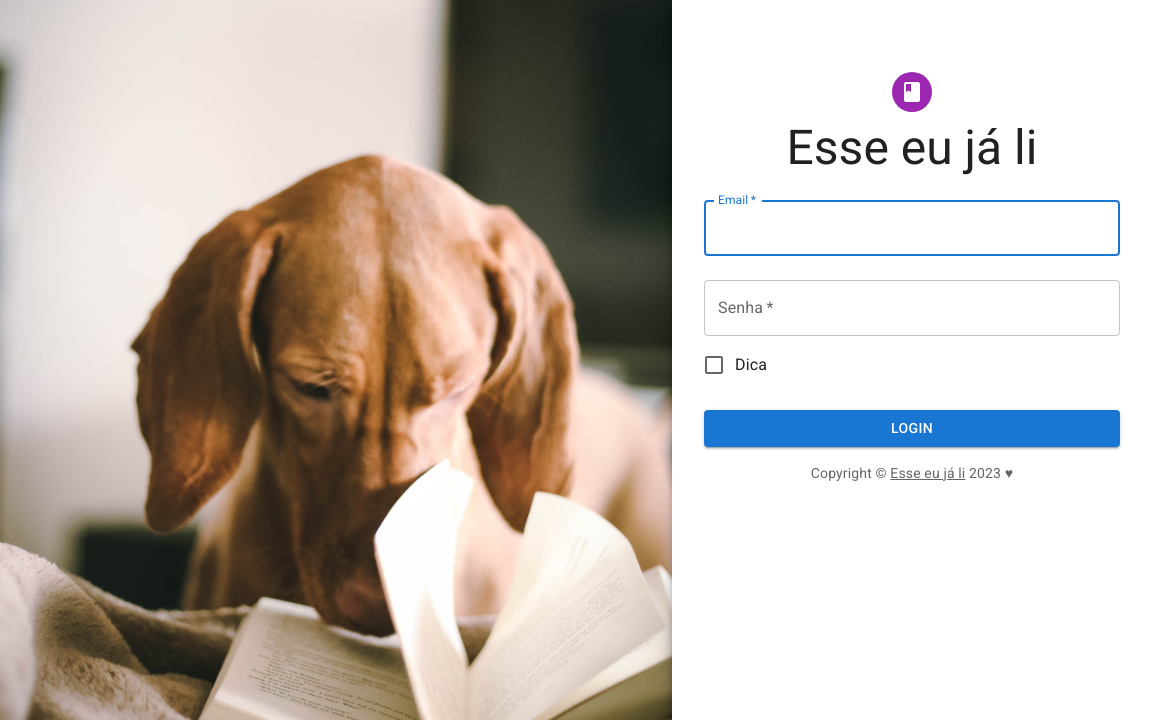
Scenario: SignIn › should show a message error when try sign with invalid credentials
Type "wrong@test.com" into the field labelled "Email *" at coordinates (912, 228), box x1=704 y1=200 x2=1120 y2=256
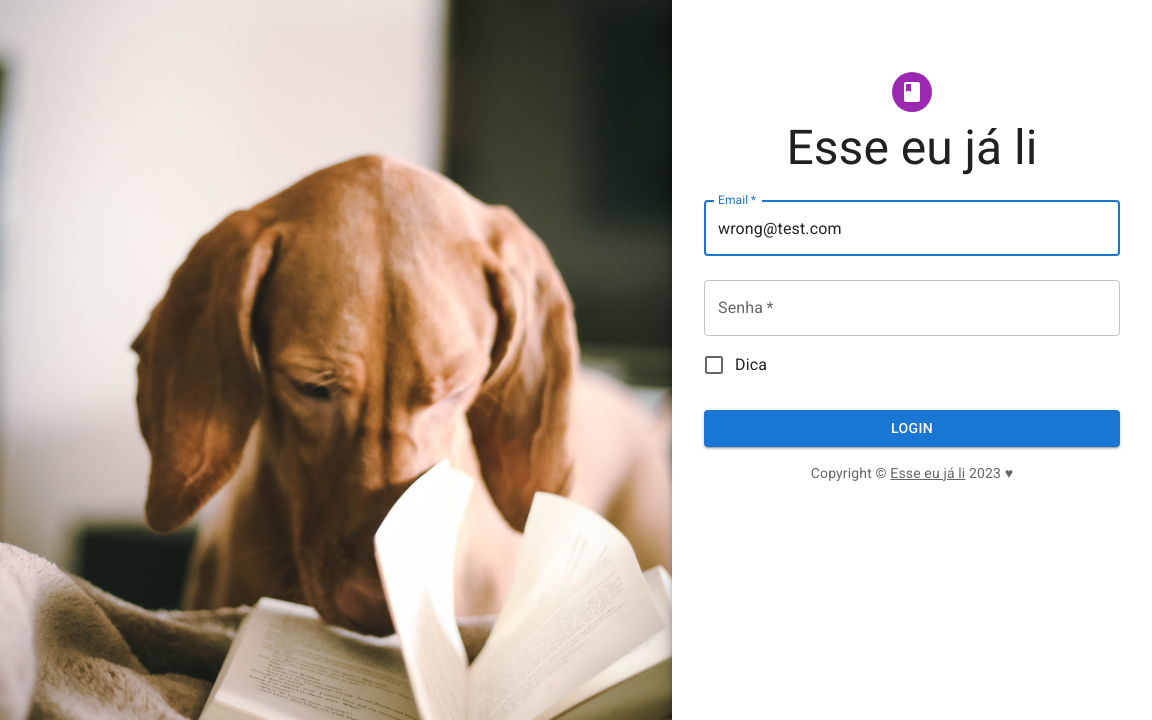
Type "123456" into the password field labelled "Senha *" at coordinates (912, 308), box x1=704 y1=280 x2=1120 y2=336
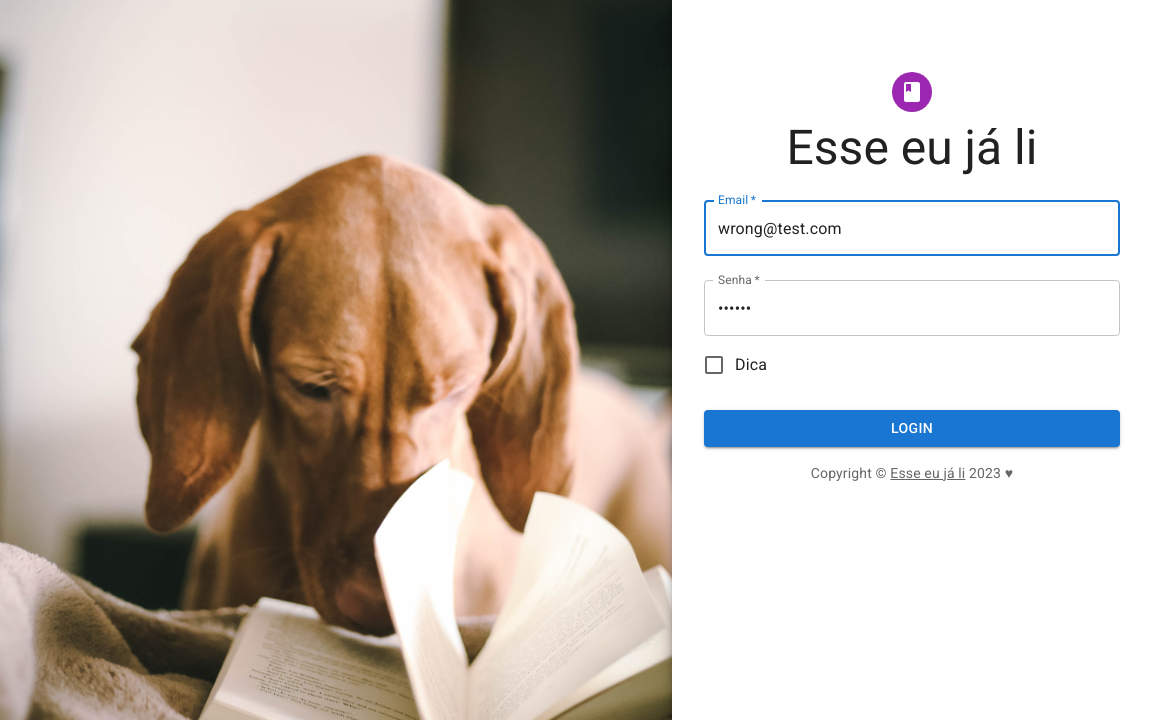
Click the button "Login" at coordinates (912, 428), box x1=704 y1=410 x2=1120 y2=446
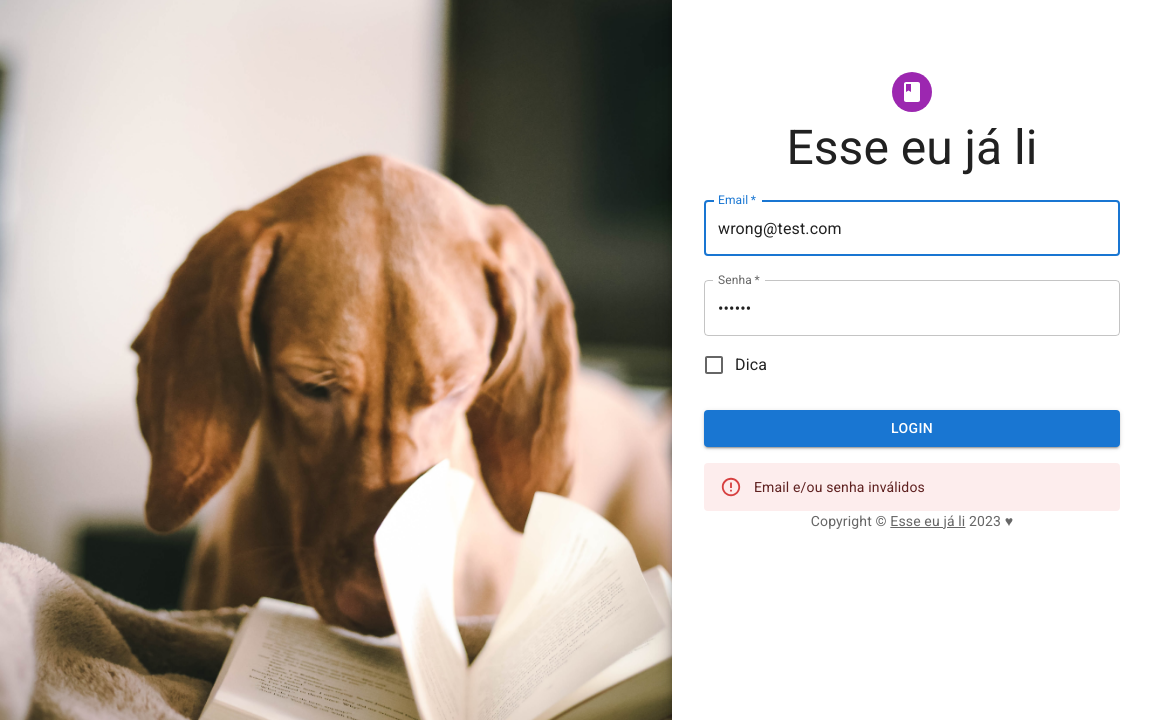
Result: the text "Email e/ou senha inválidos" is shown at x1=754 y1=478 x2=925 y2=494
